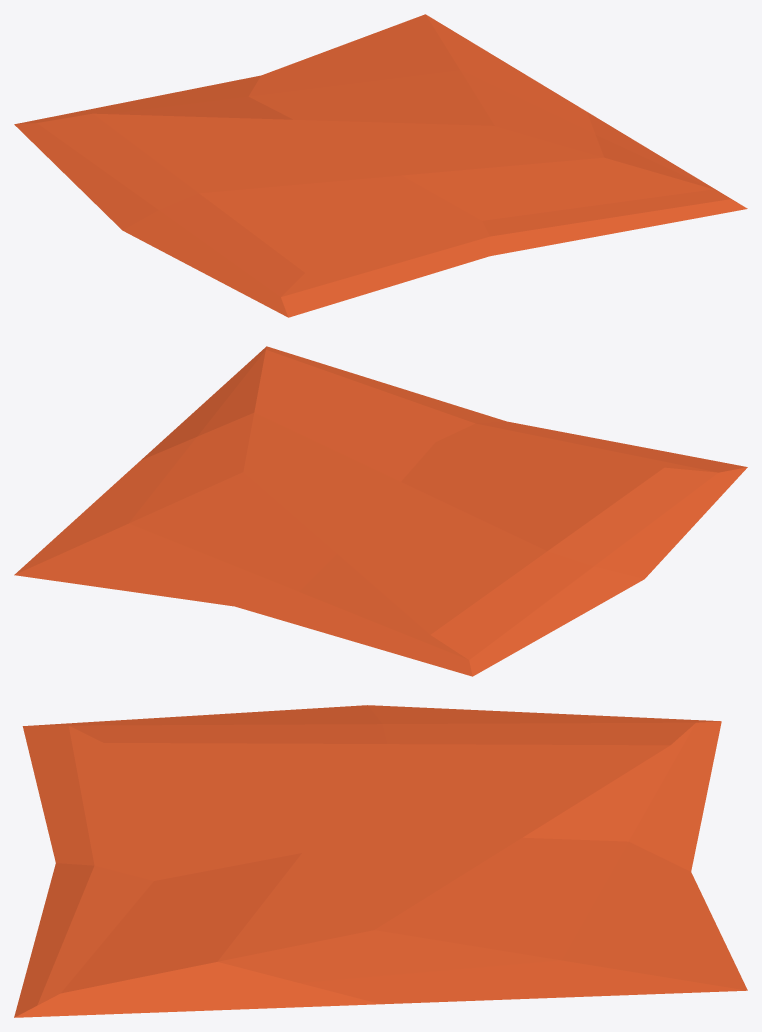
Rendered from path.glb.
The picture shows the model from 3 angles, top to bottom: view 1: azimuth 30°, elevation 25°; view 2: azimuth 150°, elevation 25°; view 3: azimuth 270°, elevation 25°; orthographic projection. The views are drawn at different scales.
Parts seen in each view (by area): view 1: Cube; view 2: Cube; view 3: Cube.
Boxes of the visible parts, x1,y1,x2,y2 form: Cube: (14, 14, 747, 317); Cube: (14, 346, 747, 676); Cube: (14, 705, 747, 1017).
Bounding box in the file's own units: 1.95 × 0.0428 × 1.93.
